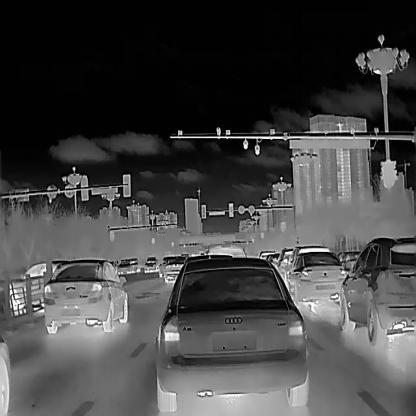car: (156, 257, 307, 410), (340, 236, 415, 348), (43, 254, 127, 333), (8, 260, 66, 315), (287, 244, 343, 299), (159, 255, 185, 282), (336, 250, 360, 272), (276, 247, 293, 272), (118, 256, 141, 272), (144, 255, 159, 272)
